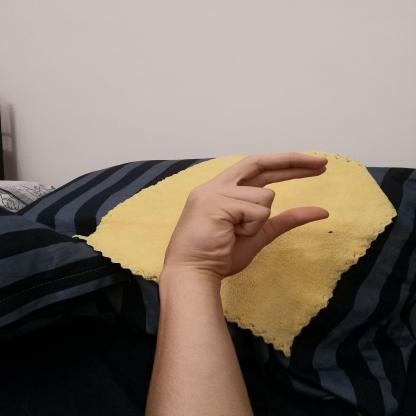DHELL: (155, 146, 341, 286)
